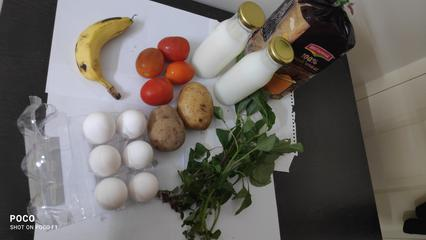bread: (261, 2, 360, 107)
eggs: (79, 110, 158, 206), (72, 15, 118, 86)
milk: (216, 34, 288, 111), (200, 4, 258, 75)
potato: (178, 85, 217, 133), (146, 104, 183, 154)
tomato: (140, 73, 176, 104), (136, 47, 168, 77), (159, 36, 190, 63), (164, 58, 196, 84)
